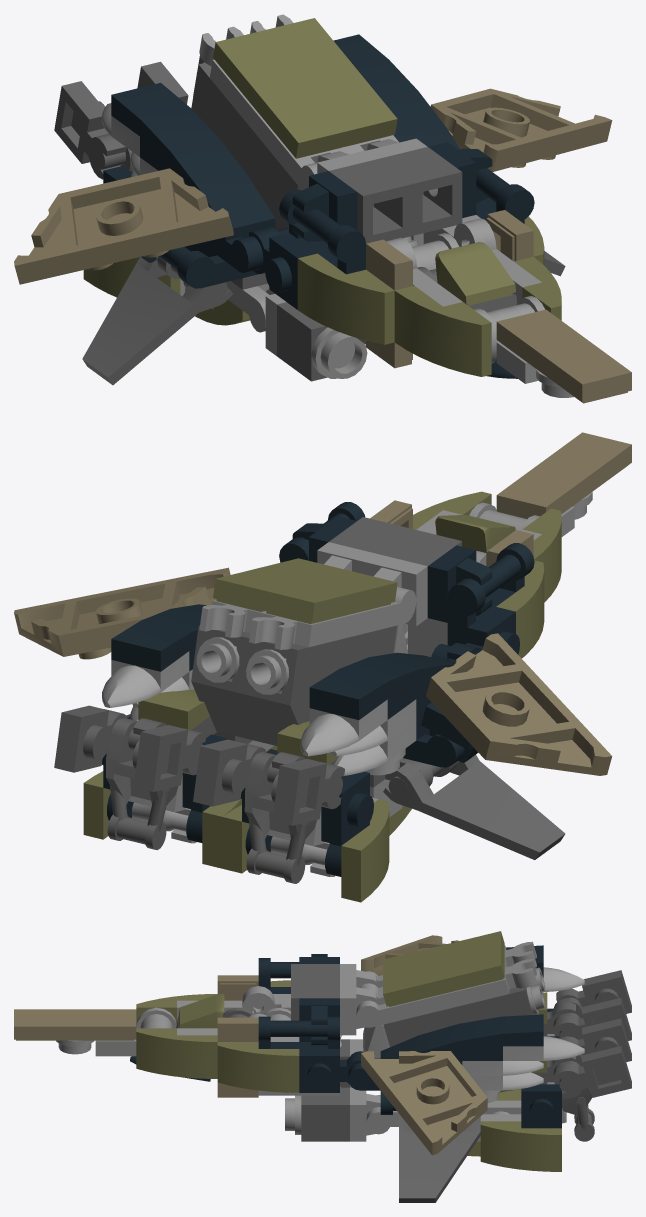
File: mvf-27-indra.dae
3 renders of one model, top to bottom at view 1: azimuth 30°, elevation 25°; view 2: azimuth 150°, elevation 25°; view 3: azimuth 270°, elevation 25°, orthographic. The views are drawn at different scales.
Bounding box in the file's own units: 241 × 303 × 95.81.
